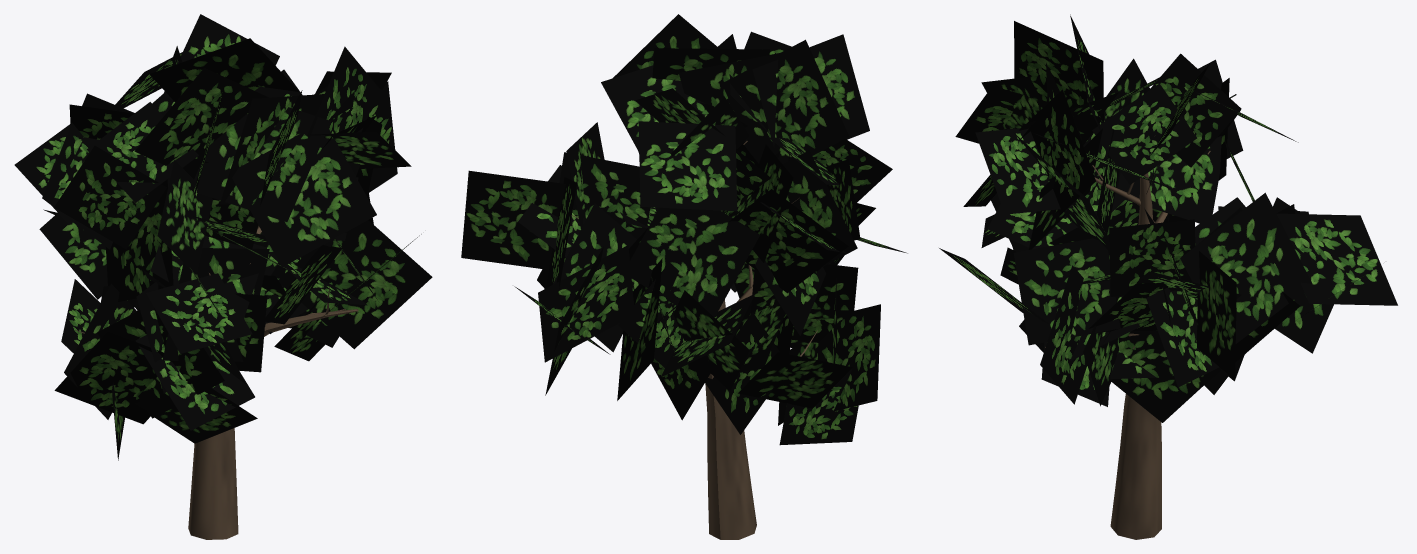
Rendered from oak_1.glb.
3 renders of one model, left to right at view 1: azimuth 30°, elevation 25°; view 2: azimuth 150°, elevation 25°; view 3: azimuth 270°, elevation 25°, orthographic. The views are drawn at different scales.
Visible parts, largest first — view 1: oak_1Leaves, oak_1Wood; view 2: oak_1Leaves, oak_1Wood; view 3: oak_1Leaves, oak_1Wood.
Boxes of the visible parts, x1=… form: oak_1Leaves: x1=14, y1=14, x2=432, y2=460; oak_1Wood: x1=75, y1=225, x2=358, y2=539; oak_1Leaves: x1=461, y1=14, x2=907, y2=445; oak_1Wood: x1=571, y1=141, x2=830, y2=539; oak_1Leaves: x1=939, y1=14, x2=1397, y2=422; oak_1Wood: x1=1045, y1=135, x2=1210, y2=539.
Size of what is drawn, in the model's own units: 4.51 by 5.62 by 4.69.
Materials: 2 (2 with a texture image).
